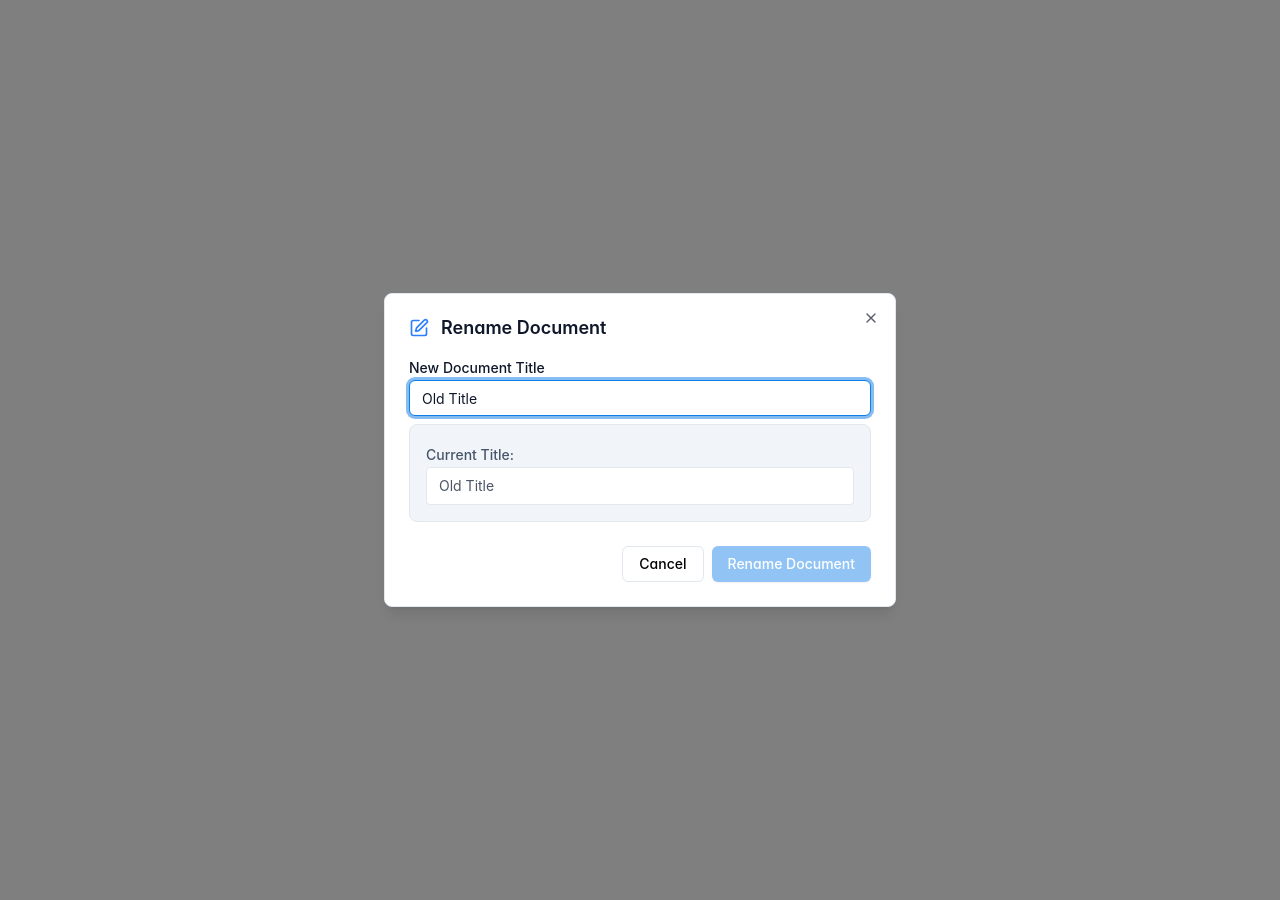
RenameDocumentModal › refuses to overwrite an existing document
The width and height of the screenshot is (1280, 900).
Replace the text in the field with test id "document-name" with "Taken" at (640, 398), box [409,380,871,416]
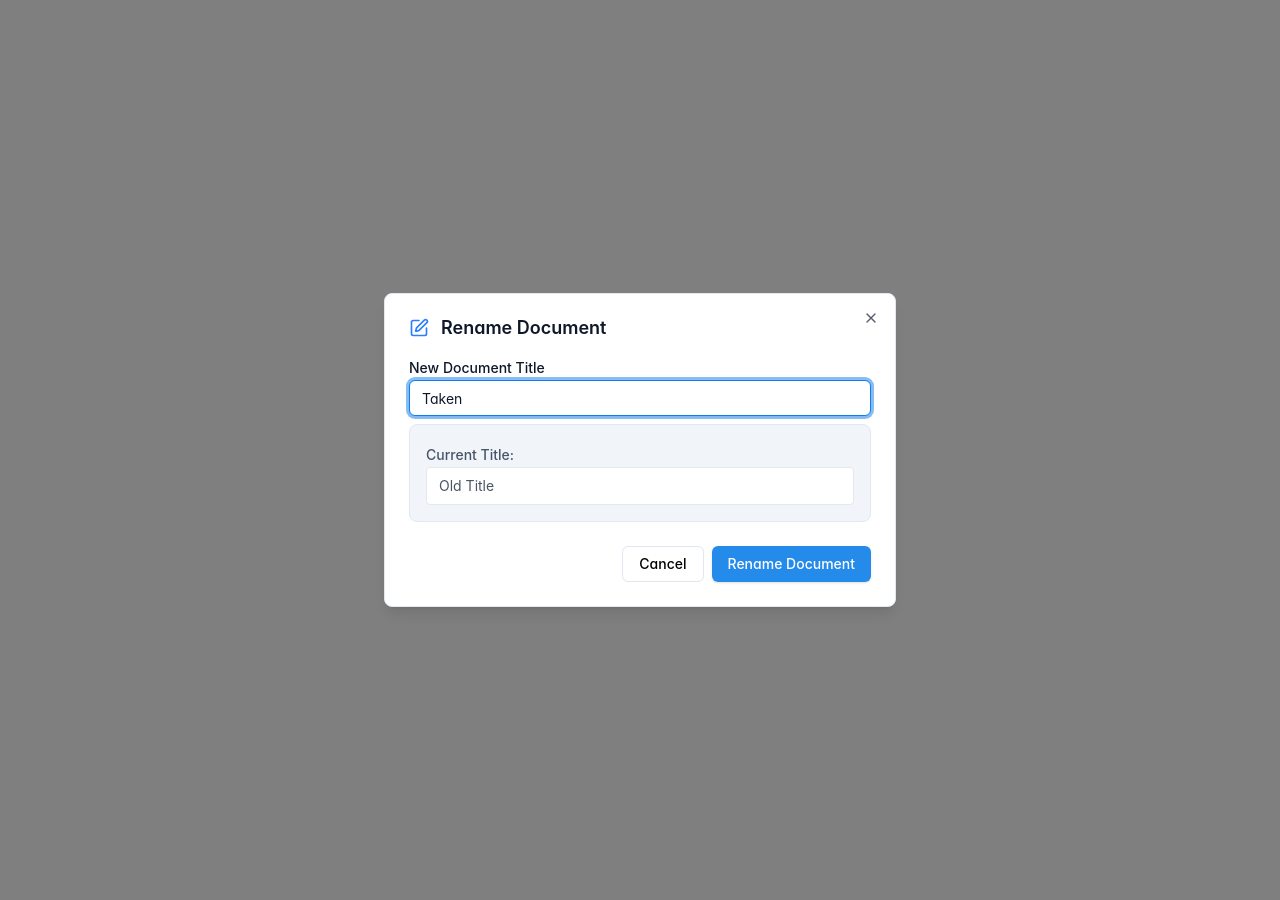
Click the button with test id "rename-document-btn" at (791, 564), box [712,546,871,582]
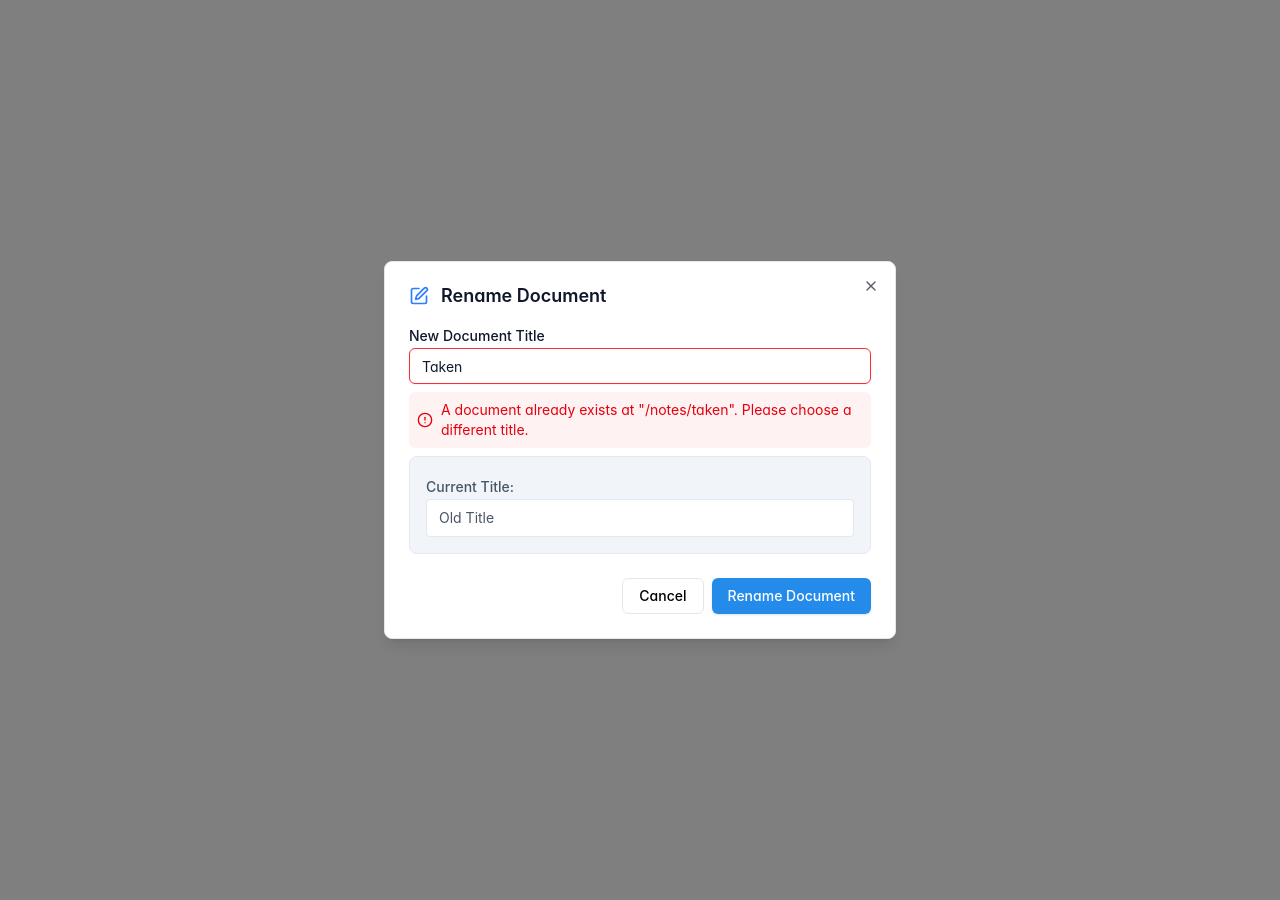
Expected: the text "A document already exists at \"/notes/taken\"" is shown, [441,401,852,438]
